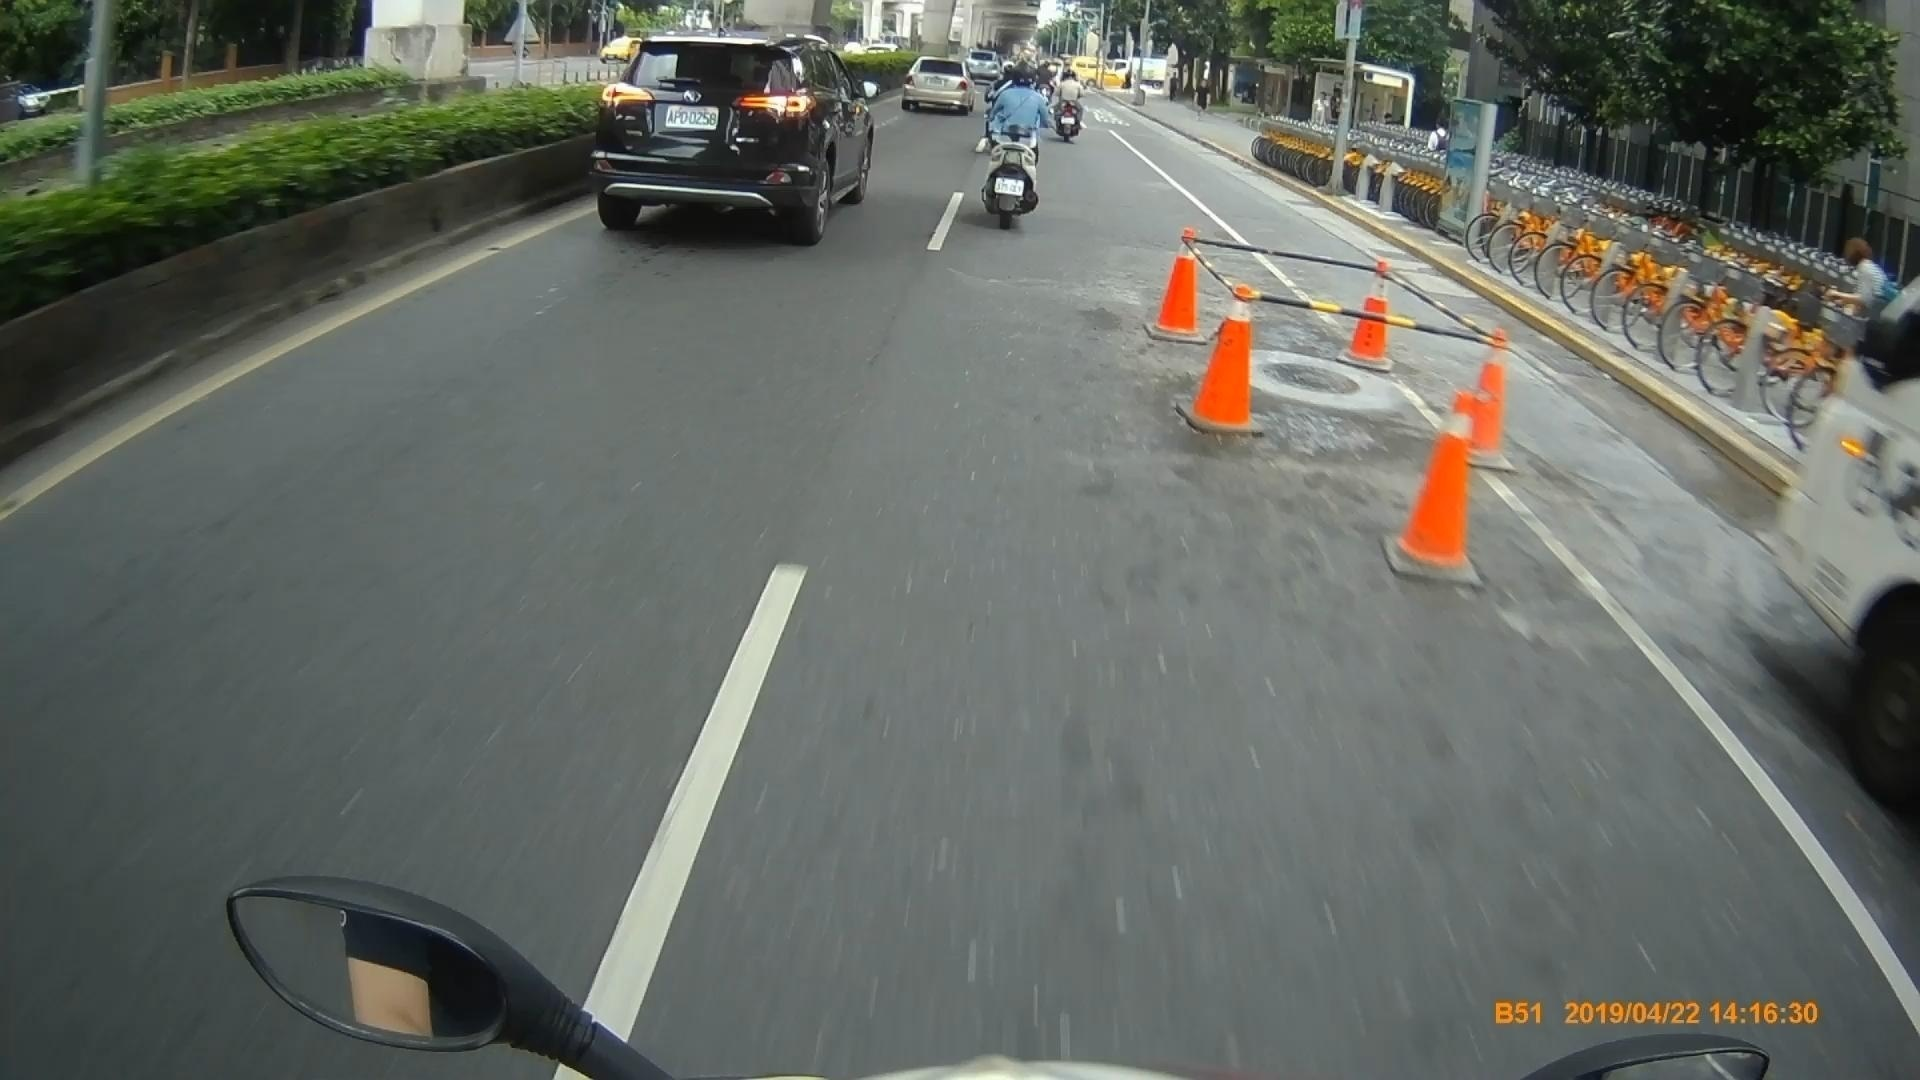License_plate: (660, 106, 718, 133), (991, 176, 1026, 198)
